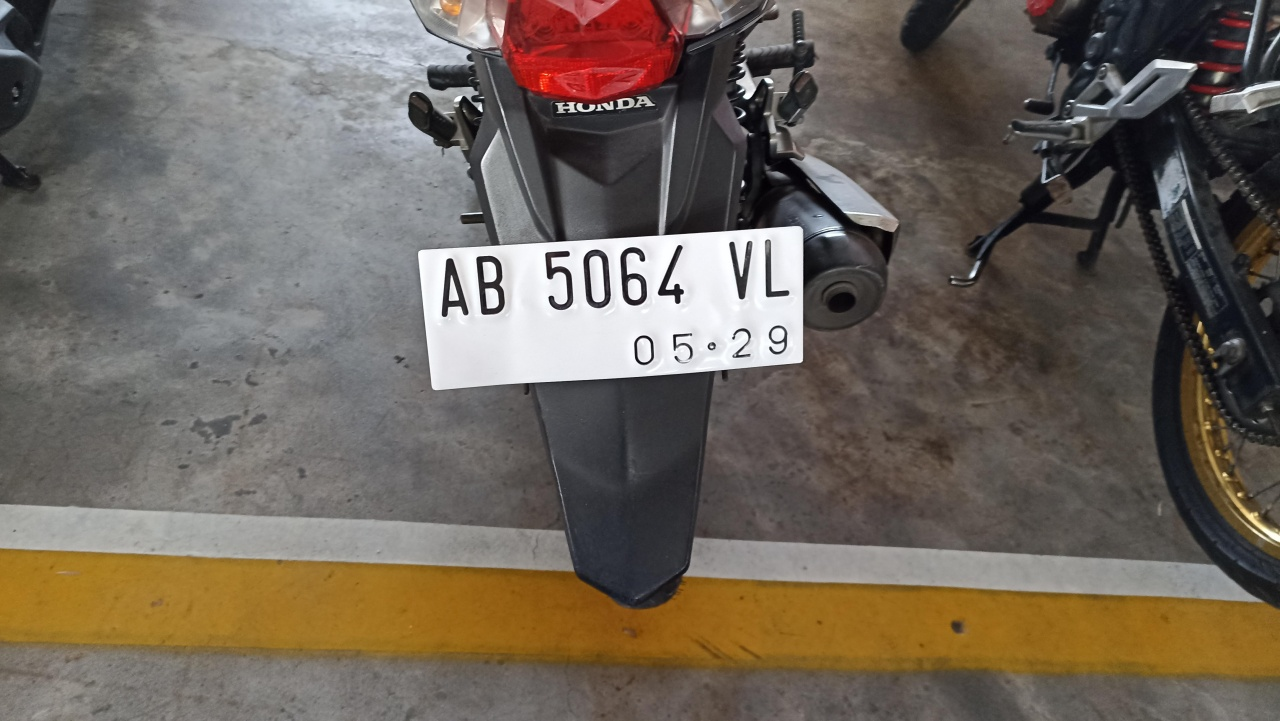plate: (418, 227, 801, 391)
